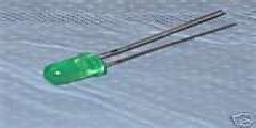LED: (41, 49, 110, 89)
